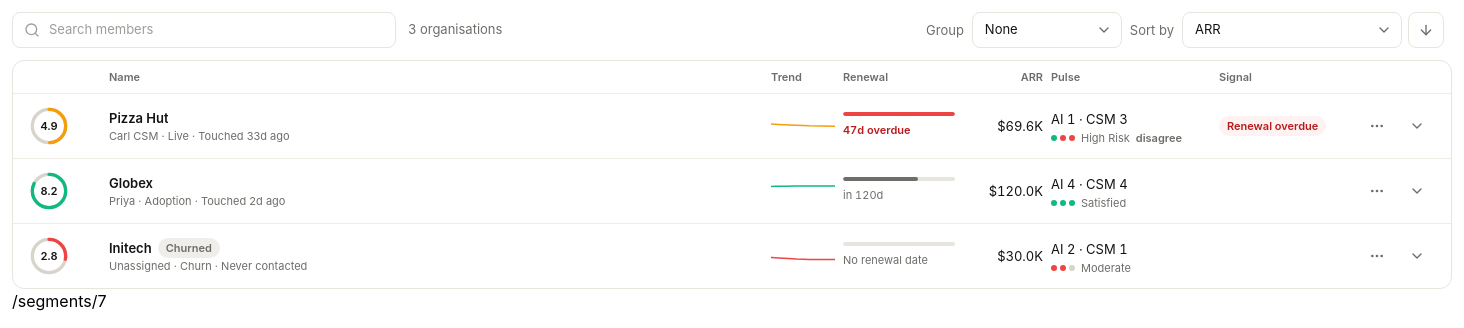
Test: MembersTab (spec §3) › sends focus to the members count line once Keep out unmounts the row that held it, instead of <body>
Click the button named "Actions for Globex" at [1377, 191], box x1=1359 y1=173 x2=1395 y2=209
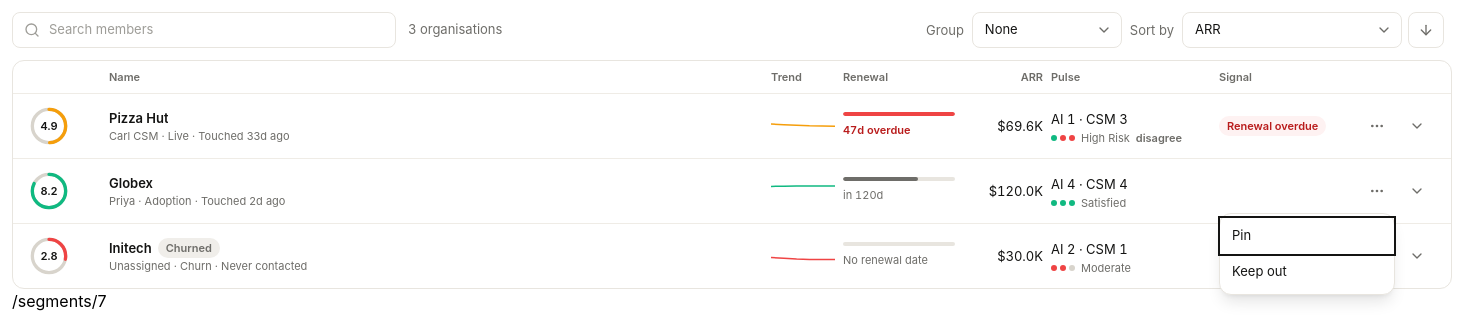
Click the menu item "Keep out" at [1307, 272], box x1=1220 y1=254 x2=1394 y2=290
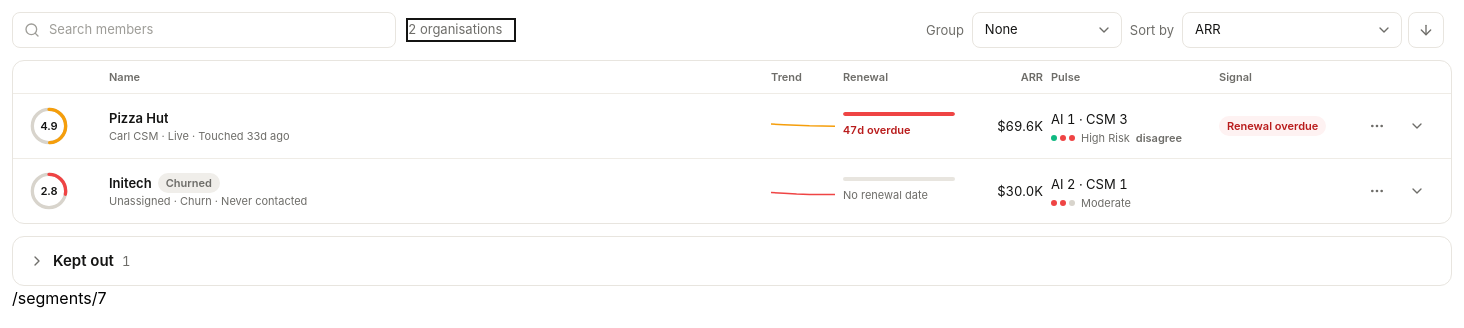
Expected: the link "Globex" is gone
